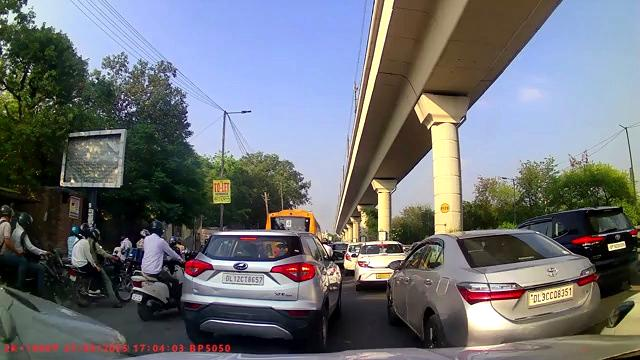motorcycle_with_helmet: (130, 223, 182, 319)
passenger_with_helmet: (69, 222, 129, 307)
